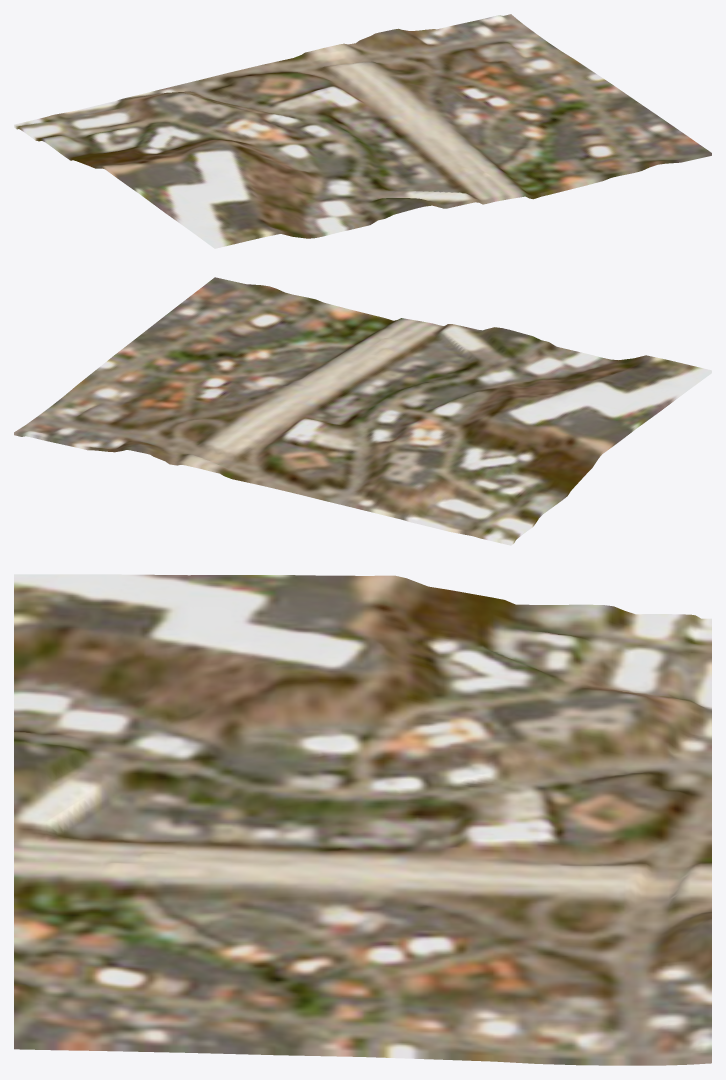
The model's file is terrain_r3_c7_lod1.glb.
The picture shows the model from 3 angles, top to bottom: view 1: azimuth 30°, elevation 25°; view 2: azimuth 150°, elevation 25°; view 3: azimuth 270°, elevation 25°; orthographic projection. The views are drawn at different scales.
Parts seen in each view (by area): view 1: terrain_r3_c7_lod1; view 2: terrain_r3_c7_lod1; view 3: terrain_r3_c7_lod1.
Part boxes in pixels (bbox=[...]): terrain_r3_c7_lod1: bbox=[14, 14, 711, 248]; terrain_r3_c7_lod1: bbox=[14, 277, 711, 545]; terrain_r3_c7_lod1: bbox=[14, 574, 711, 1065].
Size of the model in its own units: 1125 by 87.69 by 787.
1 material, 1 textured.
